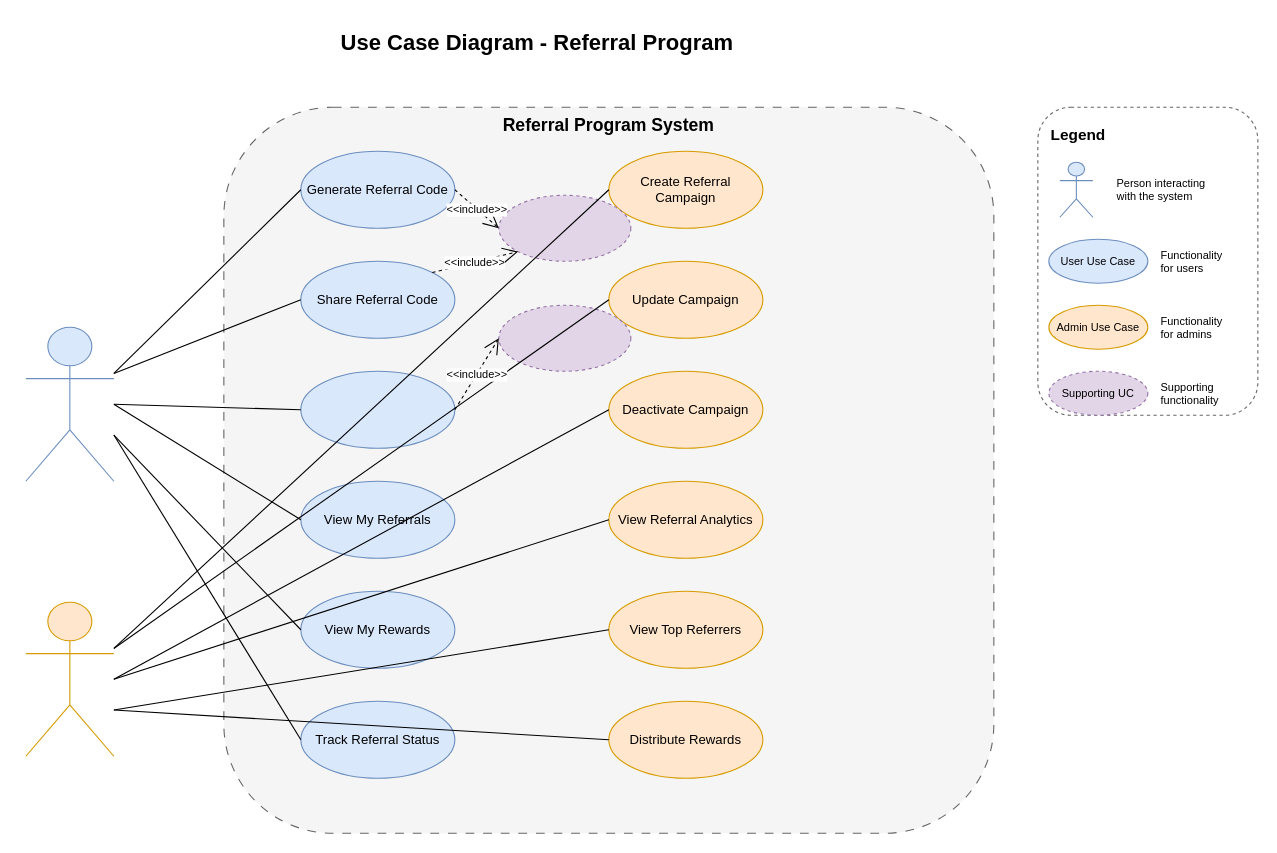
This 1277x853 diagram has some shape labels left out. Each missing label, with the centre of its shape:
Actor: pixel 1076 189
Administrator: pixel 69 678
Apply Referral Code: pixel 377 409
Send Notification: pixel 564 227
User: pixel 69 403
Validate Referral Code: pixel 564 337
